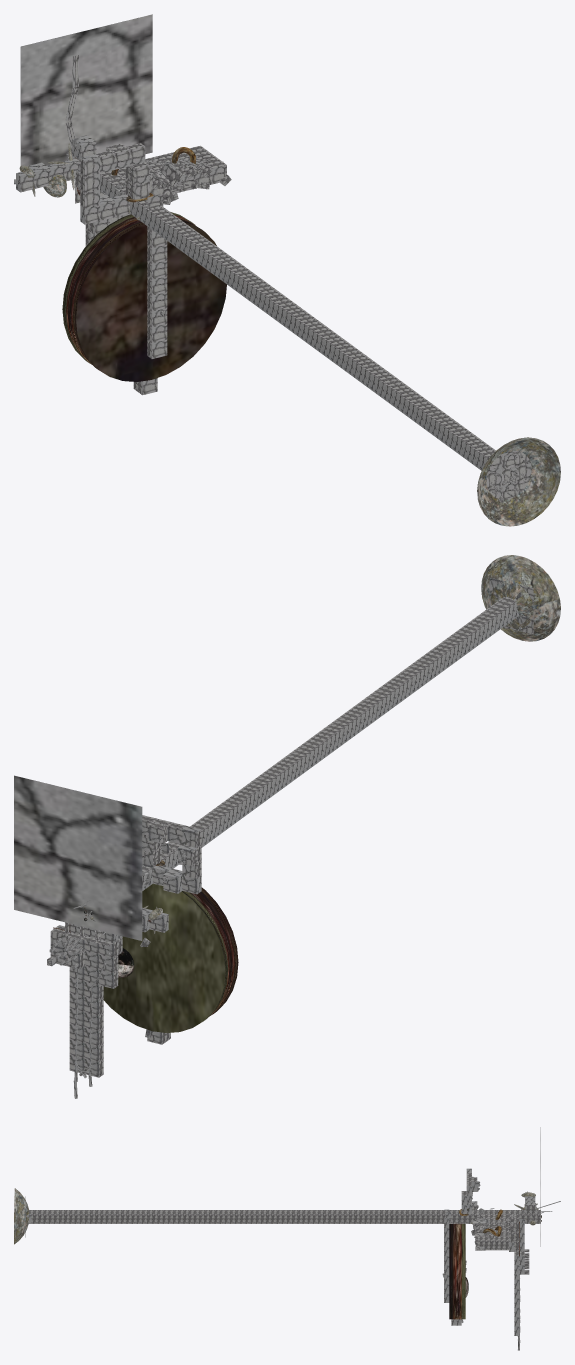
File: zombietower6.glb
3 views of the same model, one above another, from view 1: azimuth 30°, elevation 25°; view 2: azimuth 150°, elevation 25°; view 3: azimuth 270°, elevation 25° (orthographic). The views are drawn at different scales.
Parts seen in each view (by area): view 1: Cube.1396, Cylinder.121, Sphere.023, Cylinder.118, Cylinder.117; view 2: Cube.1396, Cylinder.117, Sphere.023, Cylinder.118; view 3: Cylinder.118, Sphere.023, Cylinder.121, Cylinder.117.
Part boxes in pixels (x1,y1,x2,y2): Cube.1396: (20, 14, 152, 166); Cylinder.121: (73, 219, 226, 381); Sphere.023: (477, 437, 560, 526); Cylinder.118: (66, 215, 194, 364); Cylinder.117: (62, 212, 195, 364); Cube.1396: (14, 775, 142, 940); Cylinder.117: (103, 883, 228, 1032); Sphere.023: (481, 555, 560, 641); Cylinder.118: (189, 892, 234, 1015); Cylinder.118: (453, 1224, 461, 1319); Sphere.023: (14, 1188, 28, 1244); Cylinder.121: (449, 1224, 453, 1319); Cylinder.117: (461, 1224, 465, 1319).
Bounding box in the file's own units: 2348 × 4222 × 10562.
Materials: 728 (728 with a texture image).
